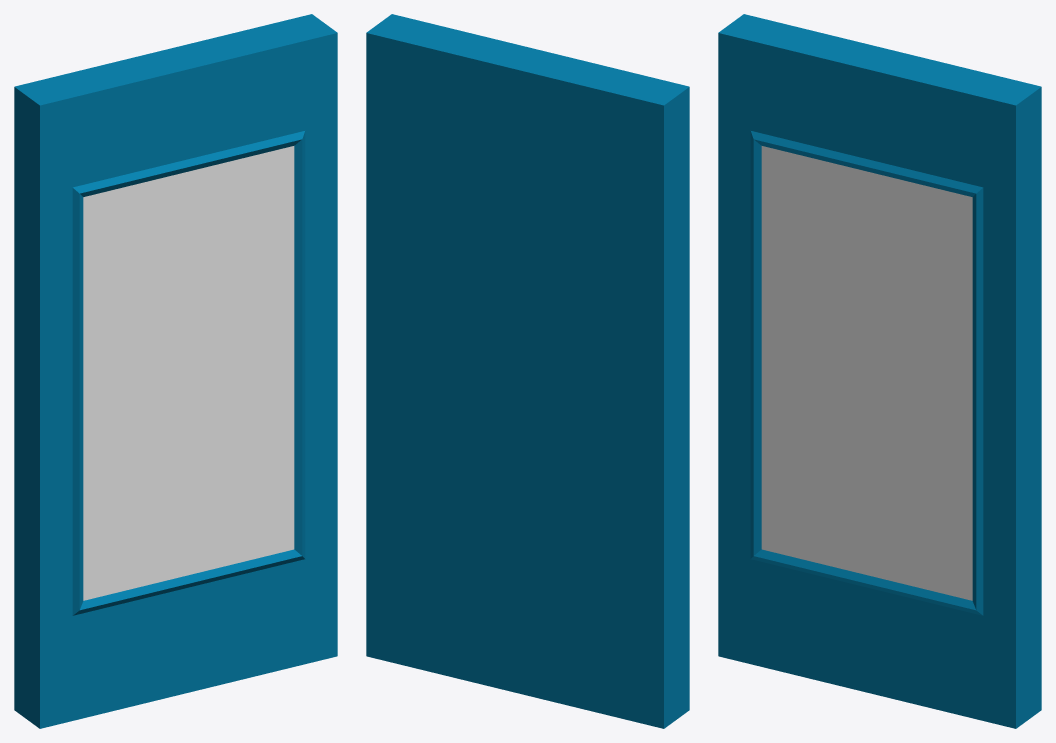
The model's file is BlueGalleryInfo.glb.
3 renders of one model, left to right at view 1: azimuth 30°, elevation 25°; view 2: azimuth 150°, elevation 25°; view 3: azimuth 330°, elevation 25°, orthographic.
Visible parts, largest first — view 1: galleryInfo_blue; view 2: galleryInfo_blue; view 3: galleryInfo_blue.
Boxes of the visible parts, <box> form: galleryInfo_blue: <box>14,14,337,728</box>; galleryInfo_blue: <box>366,14,689,728</box>; galleryInfo_blue: <box>718,14,1041,728</box>.
Size of what is drawn, in the model's own units: 2 by 4 by 0.3245.
1 material, 1 textured.
